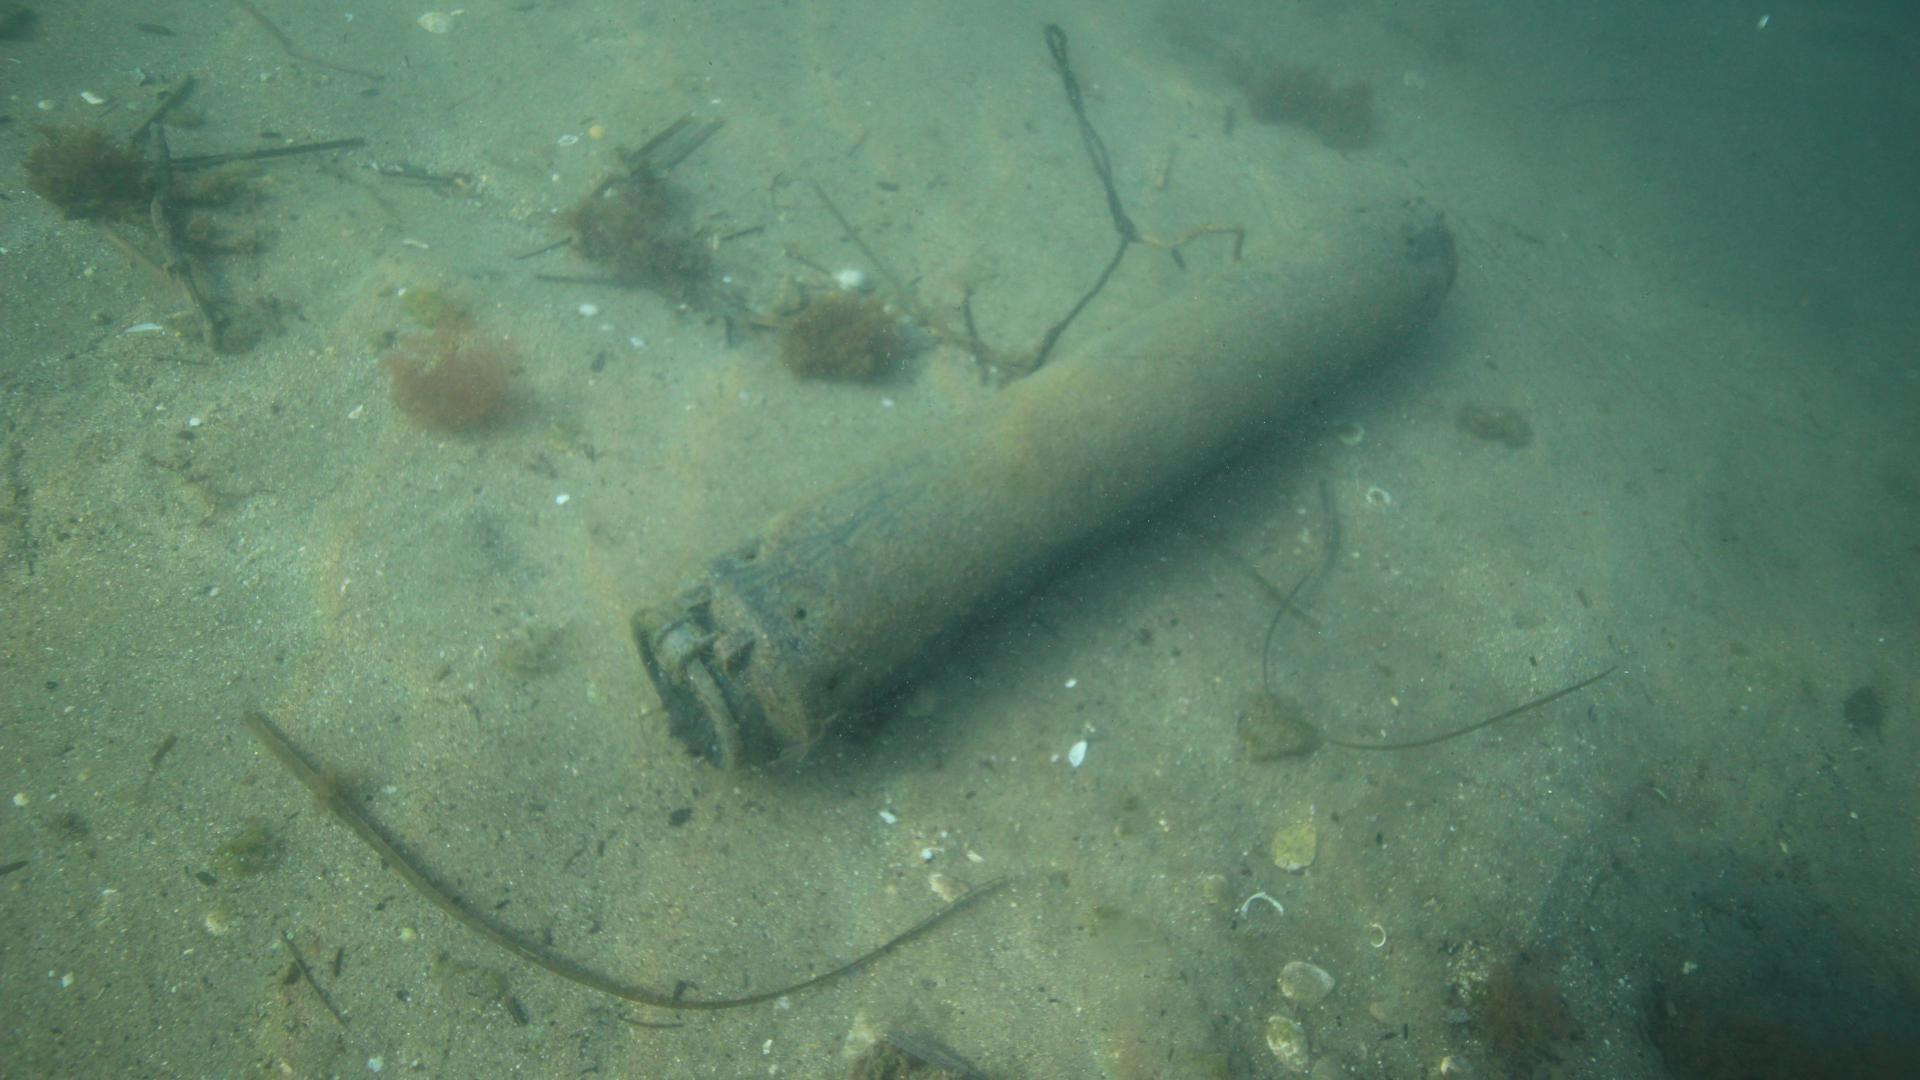bundle of ropes: (1014, 16, 1246, 378)
eel fish trap: (632, 190, 1465, 766)
